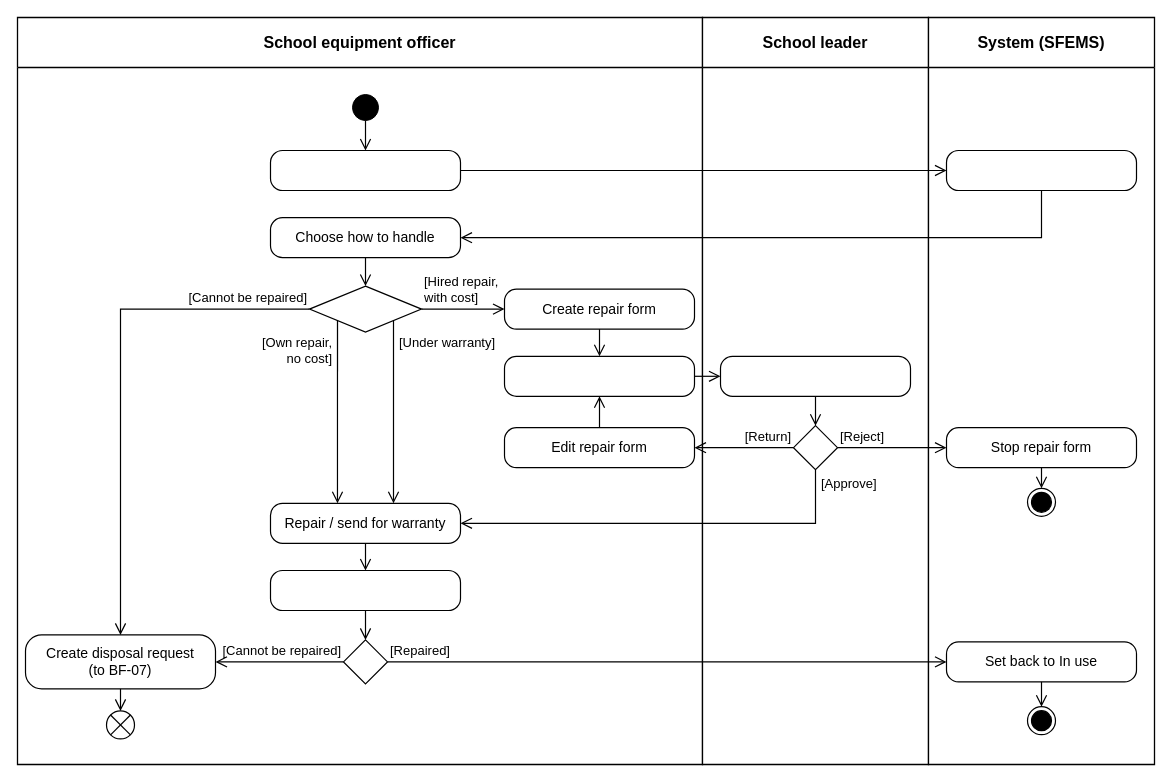
This 1173x783 diagram has some shape labels left out. Each missing label, with the centre of its shape:
"Record fault report" goes at (x=365, y=170).
"Record repair result" goes at (x=365, y=590).
"Review repair form" goes at (x=815, y=375).
"Set condition to Damaged" goes at (x=1041, y=170).
"Submit repair form" goes at (x=599, y=375).
